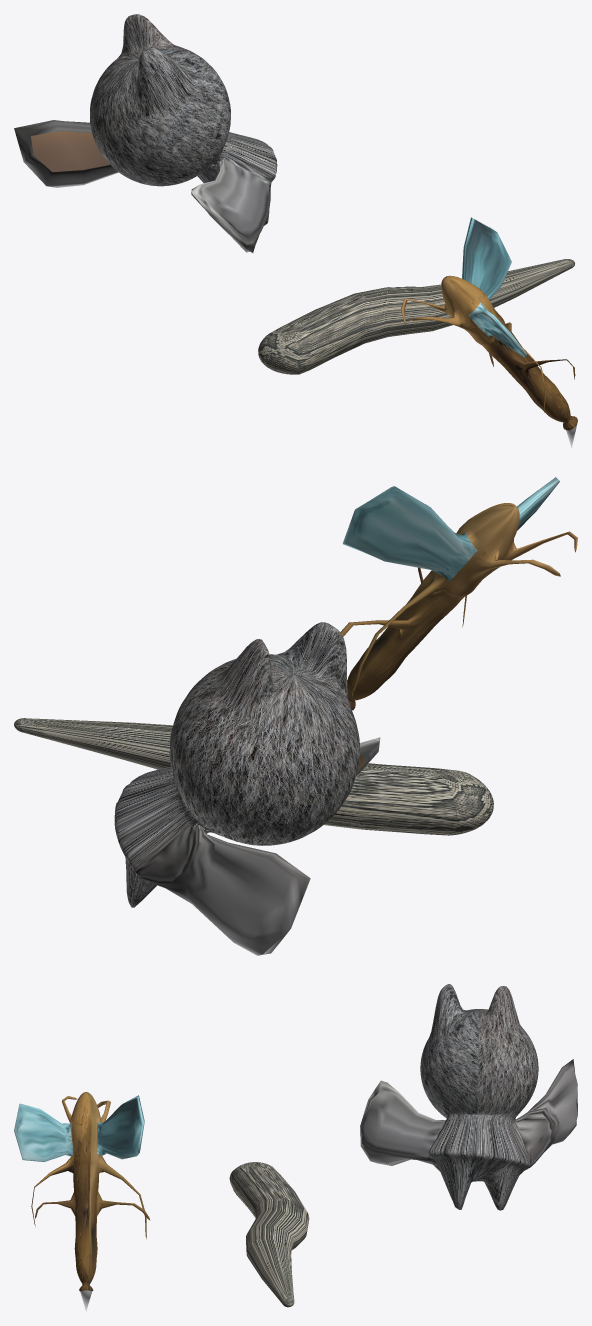
File: Creatures.fbx
3 views of the same model, one above another, from view 1: azimuth 30°, elevation 25°; view 2: azimuth 150°, elevation 25°; view 3: azimuth 270°, elevation 25° (orthographic). The views are drawn at different scales.
Parts seen in each view (by area): view 1: Bat, Snake, Dragonfly; view 2: Bat, Dragonfly, Snake; view 3: Bat, Dragonfly, Snake.
Boxes of the visible parts, x1,y1,x2,y2 form: Bat: (14,14,277,252); Snake: (258,259,574,374); Dragonfly: (401,217,577,447); Bat: (114,622,380,955); Dragonfly: (340,477,577,710); Snake: (14,718,493,835); Bat: (360,984,577,1210); Dragonfly: (14,1092,150,1311); Snake: (229,1162,309,1307).
Size of the model in its own units: 7.6 by 5.55 by 11.37.
